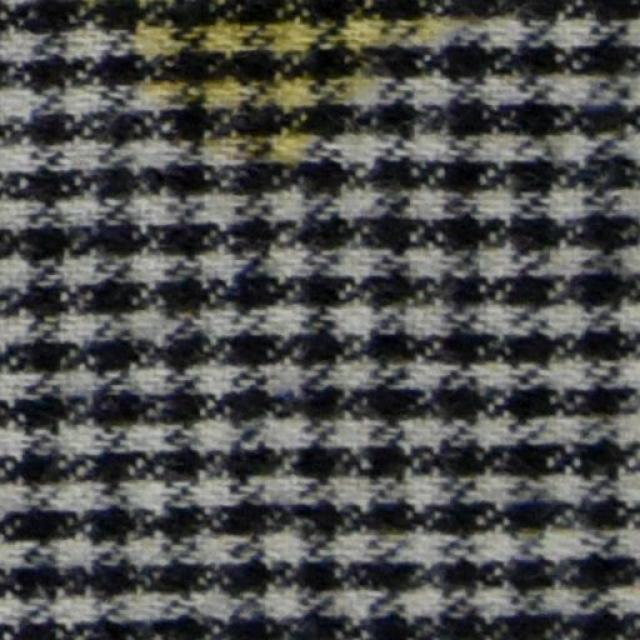Stain: (126, 1, 477, 174)
